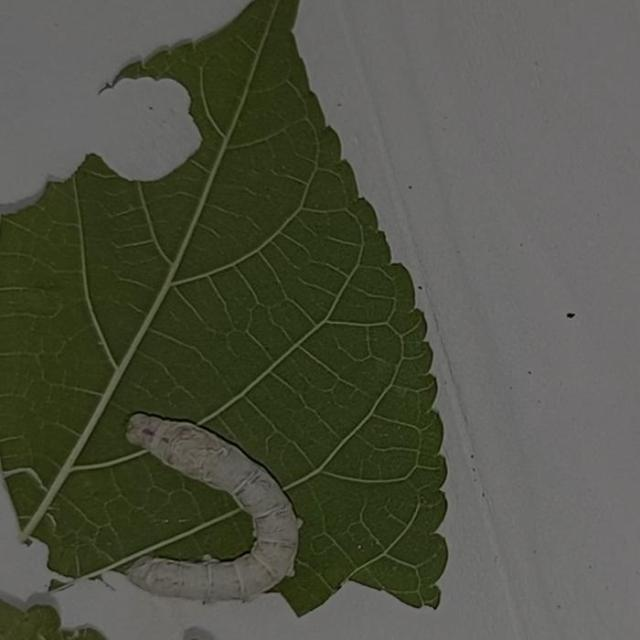Healthy: (112, 404, 302, 610)
